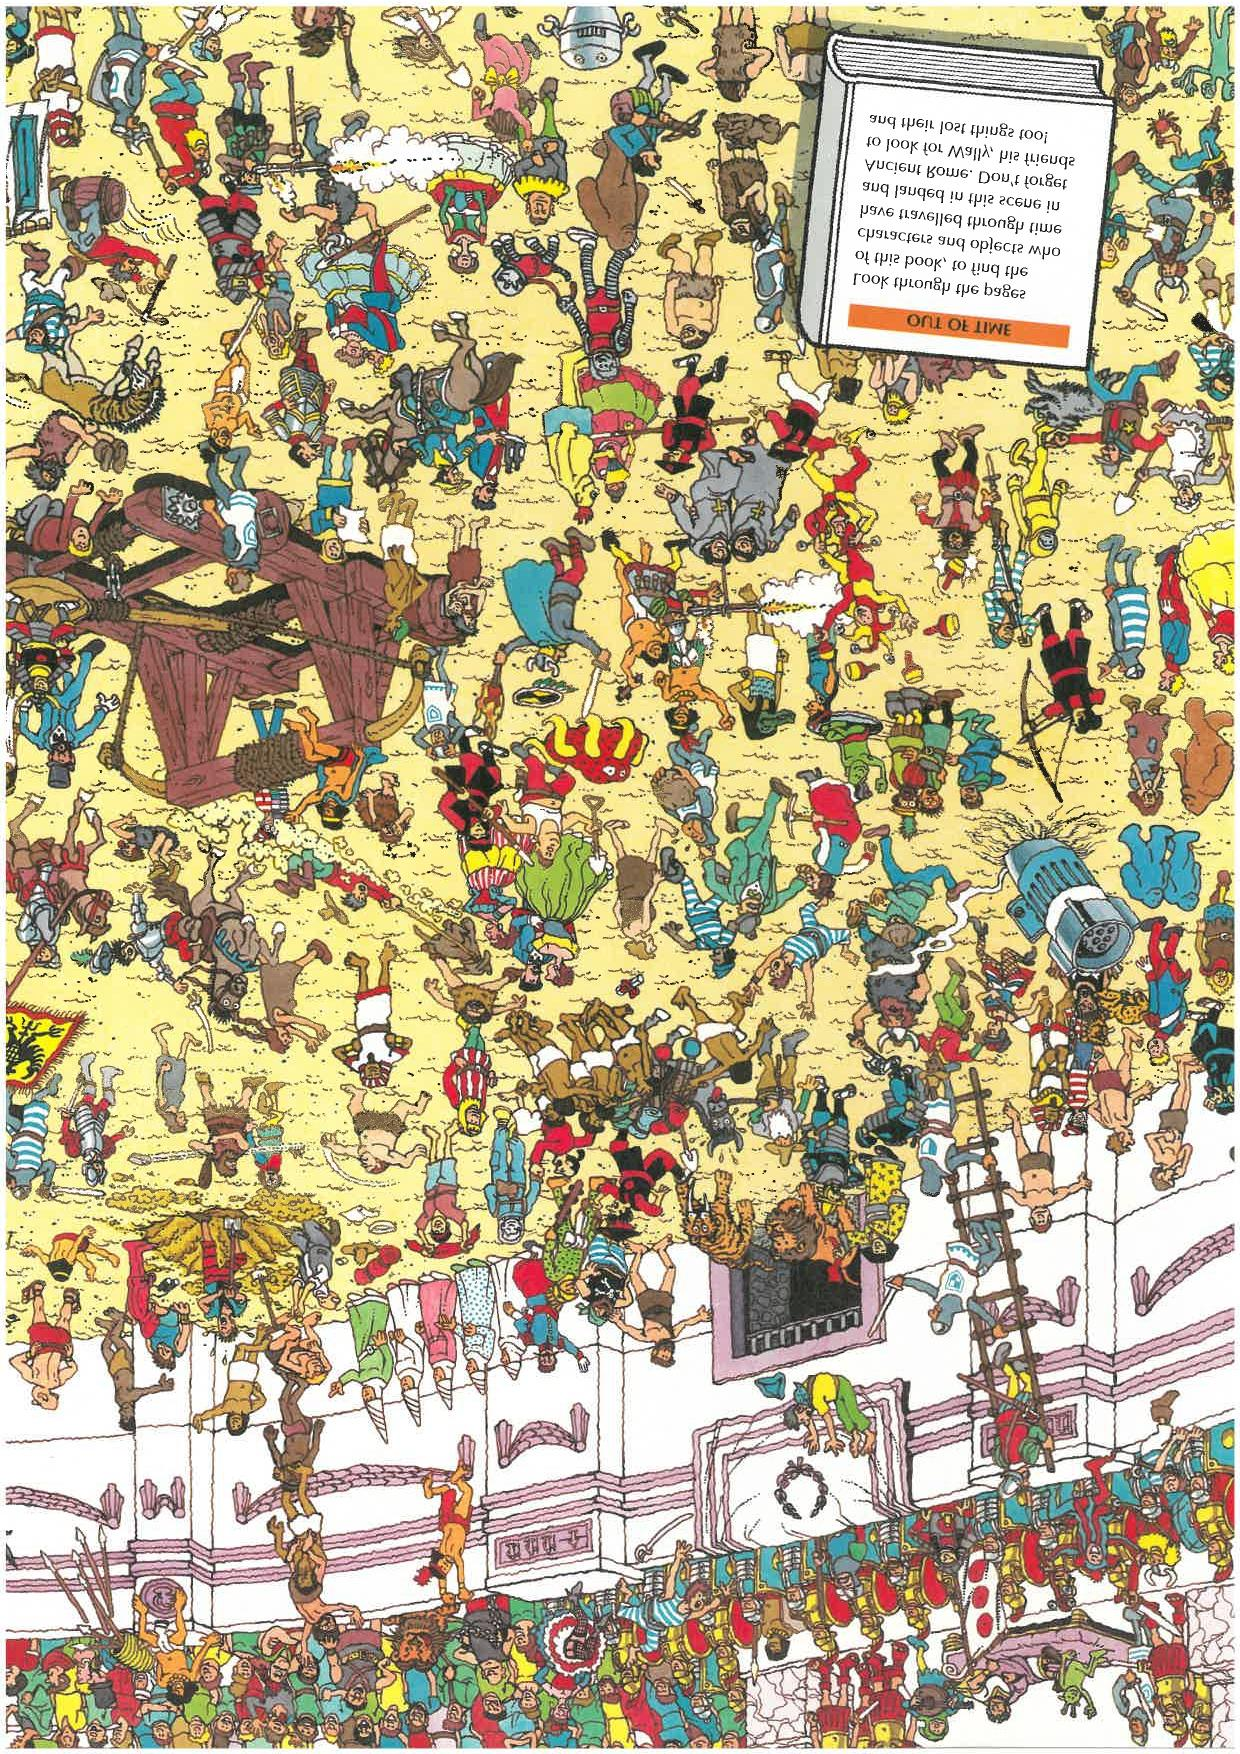waldos: (247, 701, 299, 844)
